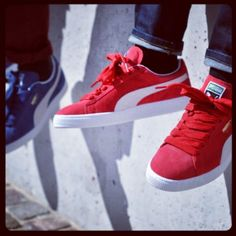Puma Suede Low Red: (50, 41, 192, 133), (138, 69, 236, 194)
